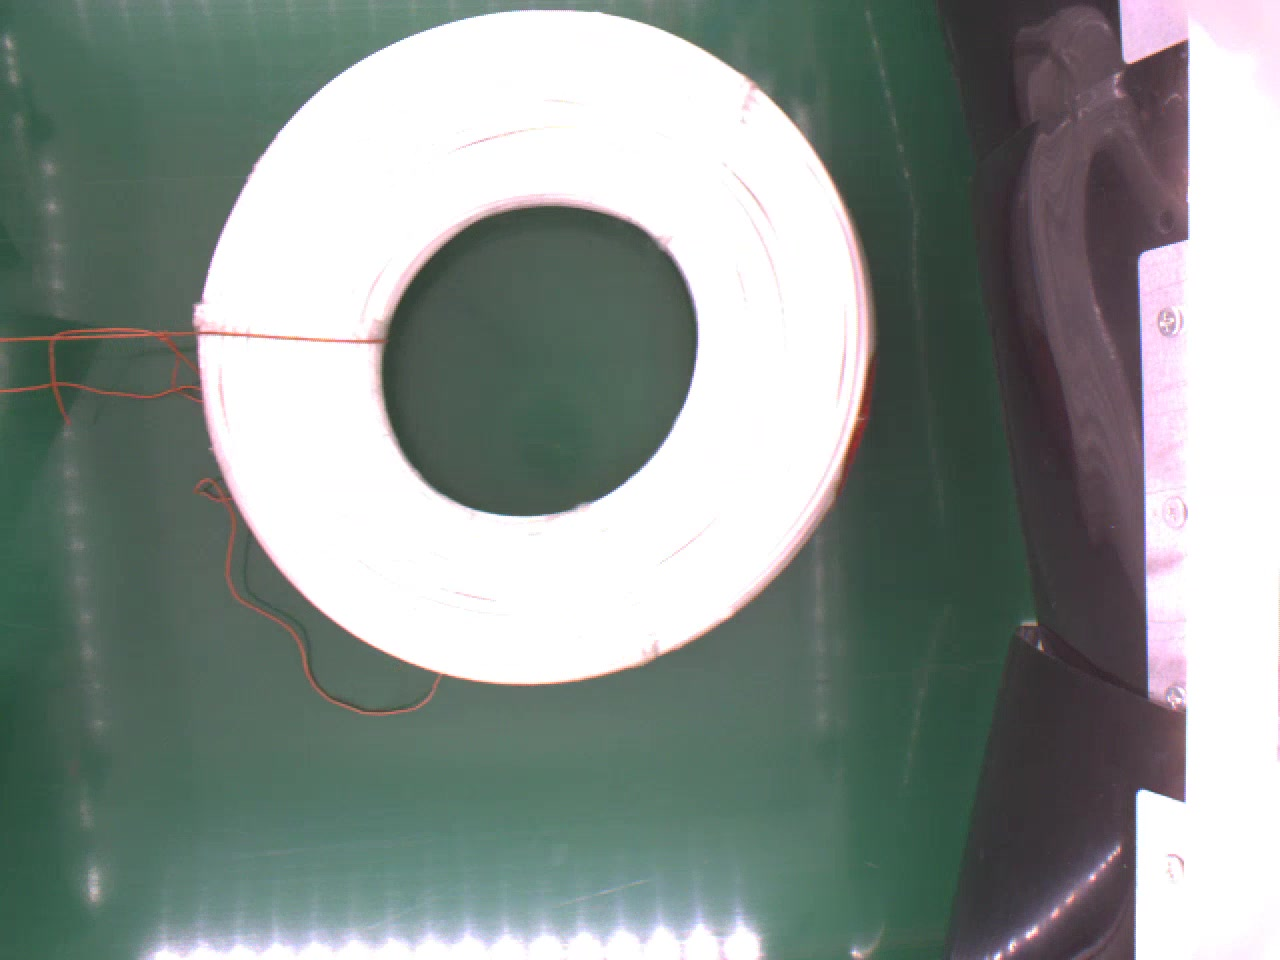white: (194, 5, 884, 683)
